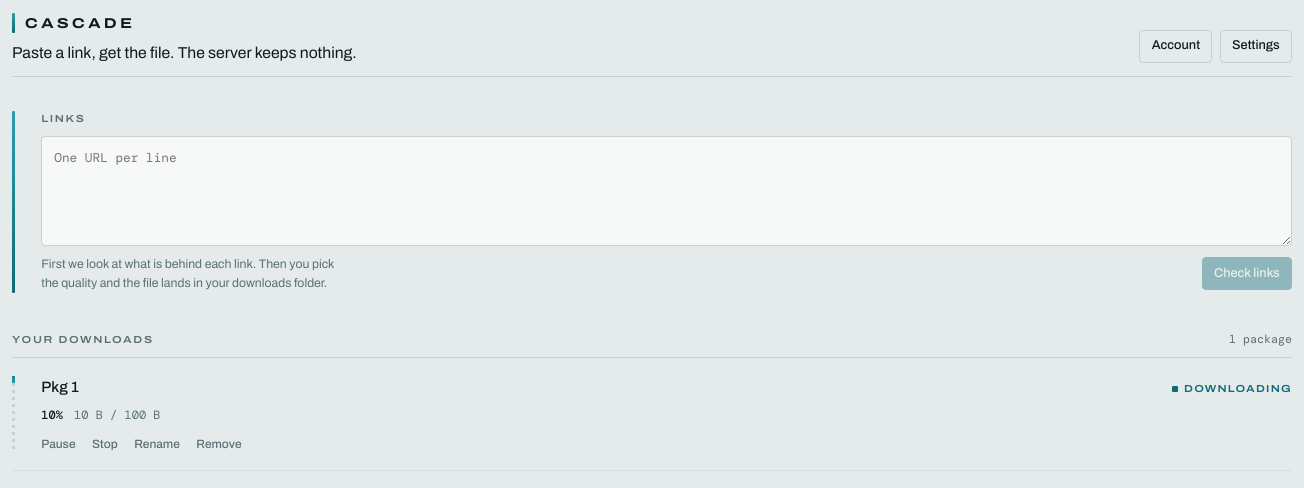
clicking a package name shows its detail view
Click the button "Pkg 1" at x=60, y=387, box [41,376,79,399]
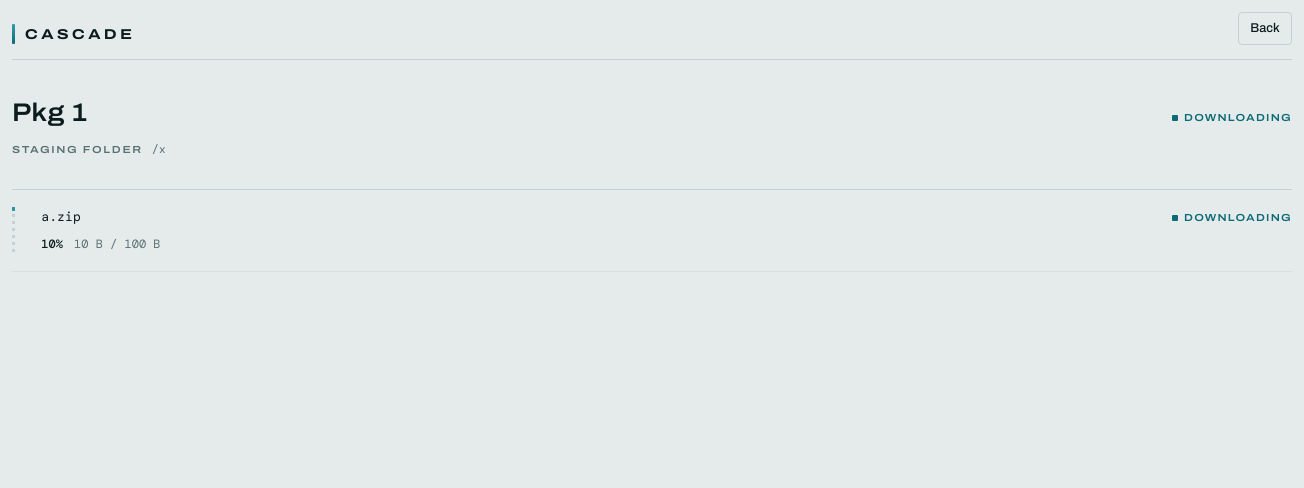
Expected: the text "a.zip" is shown, [41,207,81,227]
Expected: the button "Back" is shown, [1238,12,1292,45]
